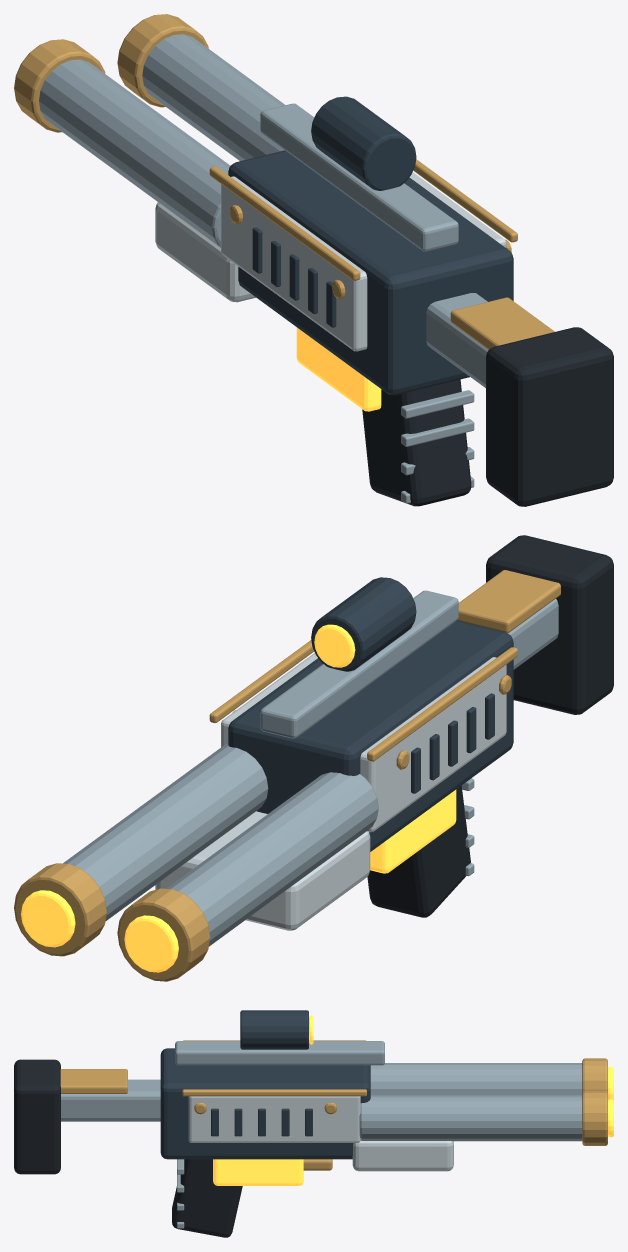
File: shotgun.glb
3 views of the same model, one above another, from view 1: azimuth 30°, elevation 25°; view 2: azimuth 150°, elevation 25°; view 3: azimuth 270°, elevation 25° (orthographic). The views are drawn at different scales.
Visible parts, largest first — view 1: ZW4_shotgun; view 2: ZW4_shotgun; view 3: ZW4_shotgun.
Boxes of the visible parts, x1,y1,x2,y2 form: ZW4_shotgun: (14, 14, 613, 506); ZW4_shotgun: (14, 535, 613, 981); ZW4_shotgun: (14, 1010, 613, 1237).
Size of the model in its own units: 0.364 by 0.6654 by 1.66.
